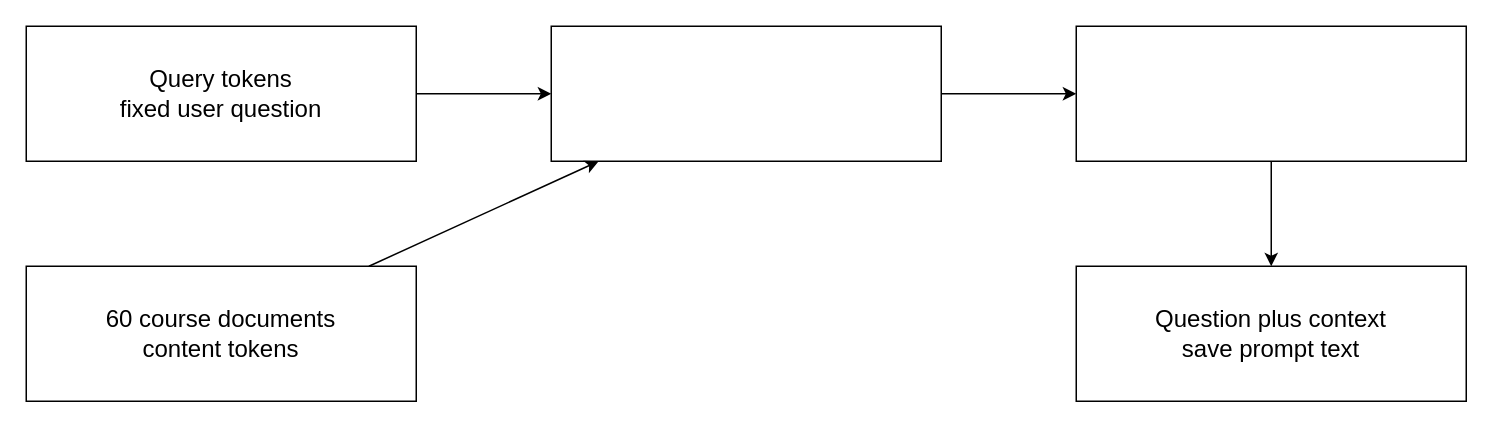
Some shapes in this 1493 by 428 pixel diagram are drawn without their labels. The box of each missing label's shape, as (x1, y1, x2, y2) in pixels:
Retrieved context document identifiers: (1075, 25, 1466, 161)
Shared-token scores rank and top documents: (550, 25, 941, 161)
